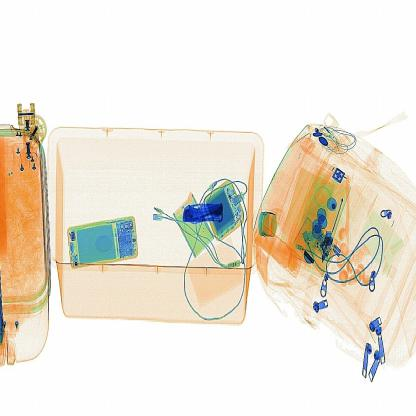knife: (176, 194, 227, 228)
